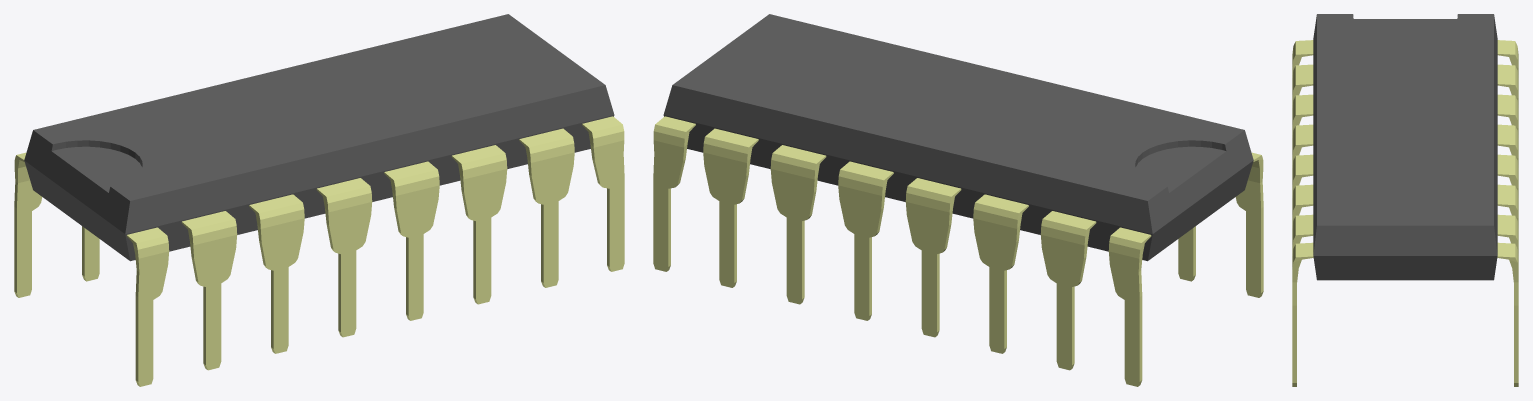
The picture shows the model from 3 angles, left to right: view 1: azimuth 30°, elevation 25°; view 2: azimuth 150°, elevation 25°; view 3: azimuth 270°, elevation 25°; orthographic projection. The views are drawn at different scales.
Visible parts, largest first — view 1: Cube.003; view 2: Cube.003; view 3: Cube.003.
Boxes of the visible parts, x1,y1,x2,y2 form: Cube.003: (14, 14, 624, 386); Cube.003: (653, 14, 1263, 386); Cube.003: (1292, 14, 1518, 386).
Size of the model in its own units: 724 by 248 by 318.
